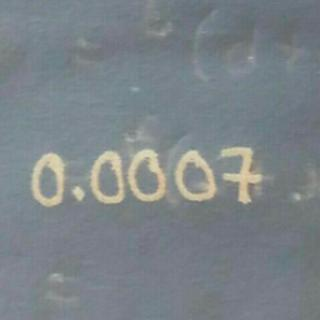.: (72, 183, 85, 202)
0: (88, 149, 131, 206), (175, 147, 217, 205), (128, 149, 166, 203), (32, 150, 65, 209)
7: (219, 147, 264, 206)
